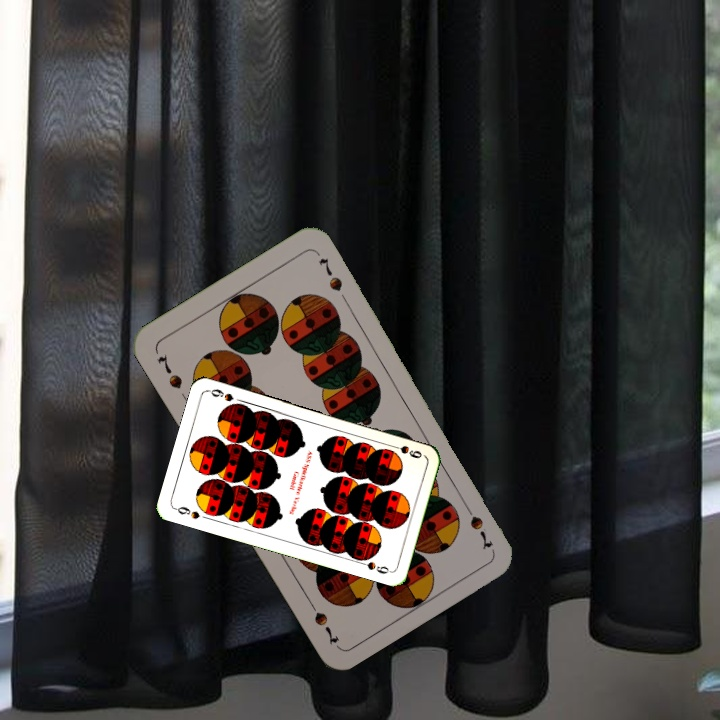S7: (459, 498, 496, 552), (153, 351, 185, 392)
S9: (385, 441, 424, 461), (171, 502, 203, 522)
